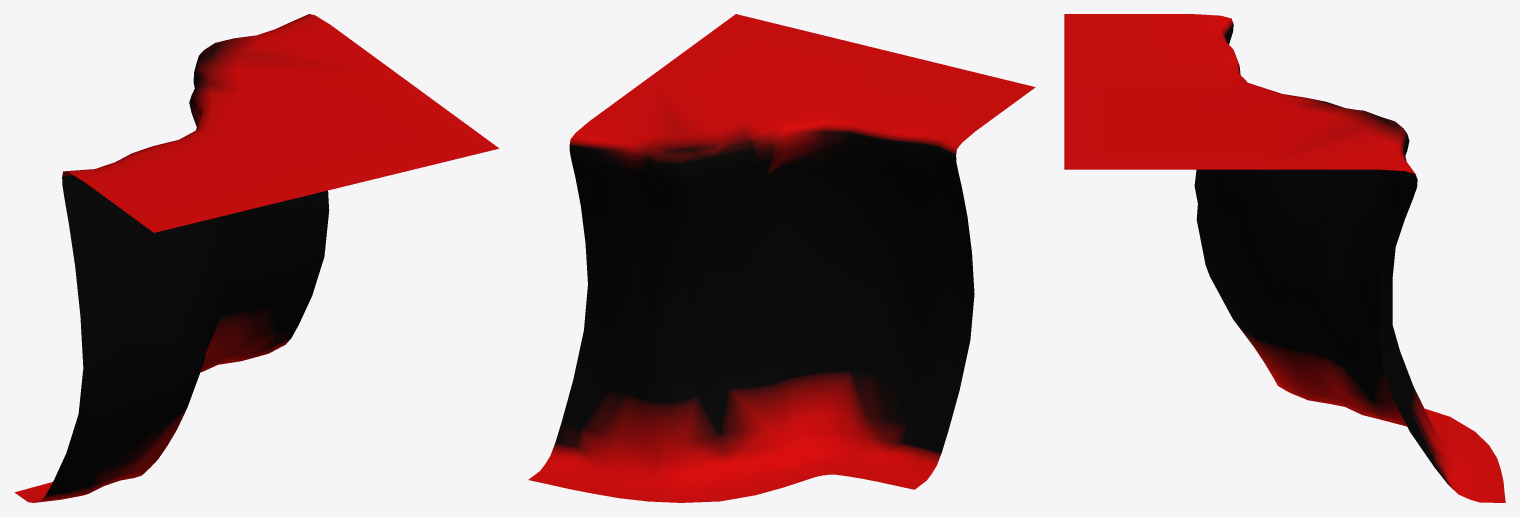
File: GroundCliff05A 2M Background.fbx
The picture shows the model from 3 angles, left to right: view 1: azimuth 30°, elevation 25°; view 2: azimuth 150°, elevation 25°; view 3: azimuth 270°, elevation 25°; orthographic projection. The views are drawn at different scales.
Parts seen in each view (by area): view 1: GroundCliff05A 2M Background; view 2: GroundCliff05A 2M Background; view 3: GroundCliff05A 2M Background.
Boxes of the visible parts, x1=… form: GroundCliff05A 2M Background: x1=14, y1=14, x2=499, y2=502; GroundCliff05A 2M Background: x1=528, y1=14, x2=1035, y2=502; GroundCliff05A 2M Background: x1=1064, y1=14, x2=1505, y2=502.
Bounding box in the file's own units: 2 × 2 × 2.4.
